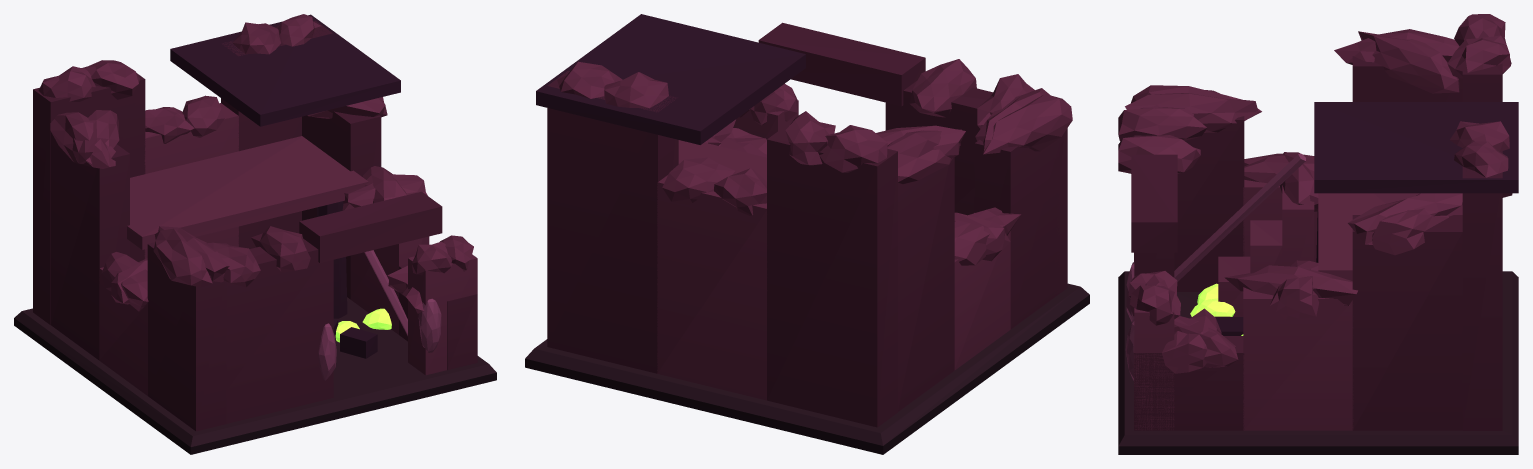
File: creep-spore-nest.glb
The picture shows the model from 3 angles, left to right: view 1: azimuth 30°, elevation 25°; view 2: azimuth 150°, elevation 25°; view 3: azimuth 270°, elevation 25°; orthographic projection. The views are drawn at different scales.
Bounding box in the file's own units: 5 × 4 × 5.
